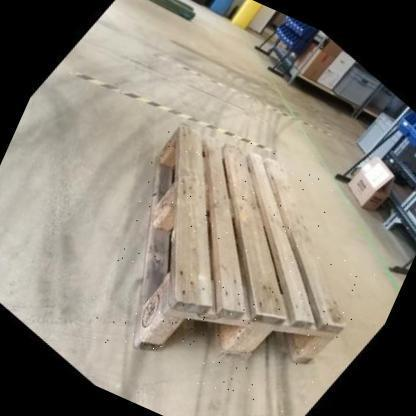pallet: (134, 123, 350, 366)
